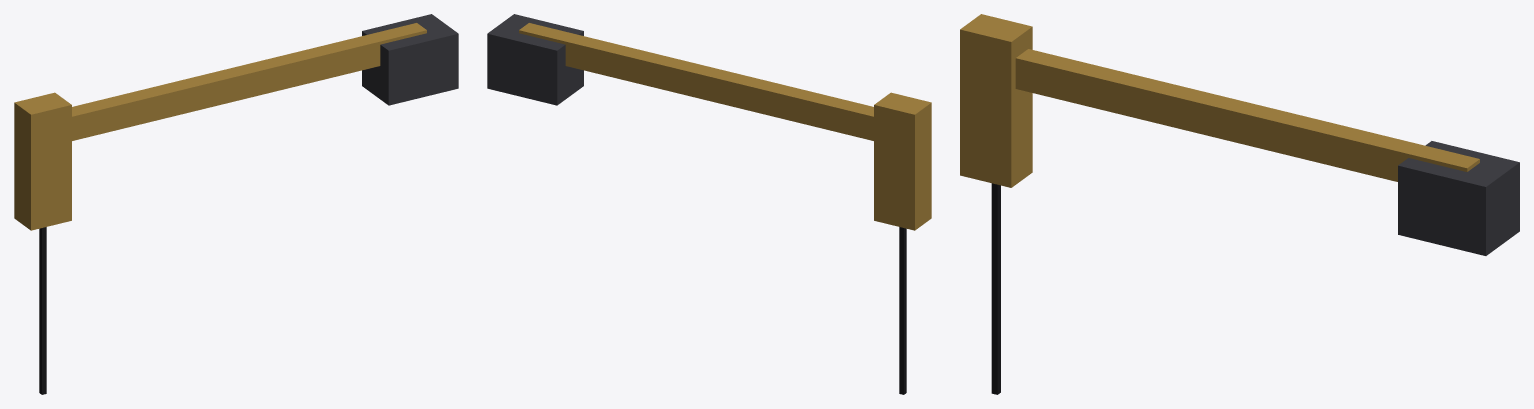
The model's file is mark-pumpjack-beam.glb.
3 views of the same model, side by side, from view 1: azimuth 30°, elevation 25°; view 2: azimuth 150°, elevation 25°; view 3: azimuth 330°, elevation 25° (orthographic). The views are drawn at different scales.
Parts seen in each view (by area): view 1: 00_#a8843c, 01_#a8843c_r320, 03_#3a3a40_r320, 02_#16161a_noshadow; view 2: 00_#a8843c, 01_#a8843c_r320, 03_#3a3a40_r320, 02_#16161a_noshadow; view 3: 00_#a8843c, 01_#a8843c_r320, 03_#3a3a40_r320, 02_#16161a_noshadow.
Boxes of the visible parts, left/top/right/bottom form: 00_#a8843c: left=72, top=23, right=426, bottom=140; 01_#a8843c_r320: left=14, top=92, right=71, bottom=230; 03_#3a3a40_r320: left=362, top=14, right=458, bottom=105; 02_#16161a_noshadow: left=39, top=227, right=46, bottom=394; 00_#a8843c: left=519, top=23, right=873, bottom=140; 01_#a8843c_r320: left=874, top=92, right=931, bottom=230; 03_#3a3a40_r320: left=487, top=14, right=583, bottom=105; 02_#16161a_noshadow: left=899, top=227, right=906, bottom=394; 00_#a8843c: left=1015, top=49, right=1479, bottom=181; 01_#a8843c_r320: left=960, top=14, right=1032, bottom=187; 03_#3a3a40_r320: left=1398, top=141, right=1519, bottom=255; 02_#16161a_noshadow: left=991, top=183, right=1000, bottom=394.
Size of the model in its own units: 7.25 by 4.75 by 0.8.
